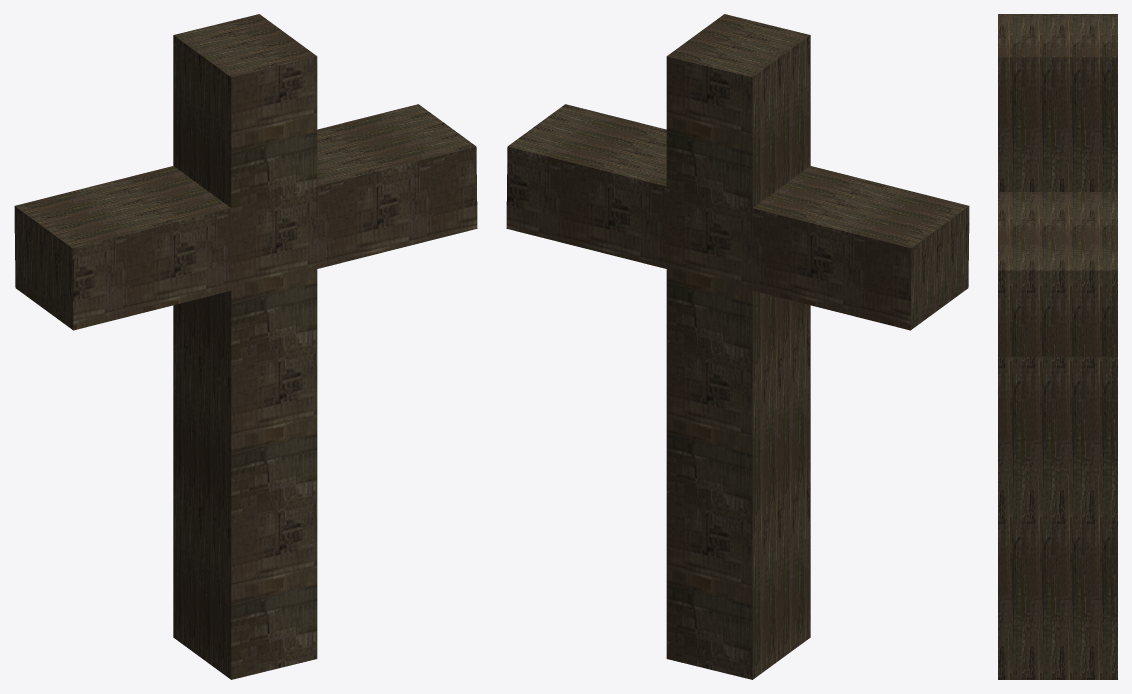
The model's file is cross.gltf.
The picture shows the model from 3 angles, left to right: view 1: azimuth 30°, elevation 25°; view 2: azimuth 150°, elevation 25°; view 3: azimuth 270°, elevation 25°; orthographic projection. The views are drawn at different scales.
Visible parts, largest first — view 1: cross_atomic0; view 2: cross_atomic0; view 3: cross_atomic0.
Boxes of the visible parts, box(x1,y1,x2,y2) form: cross_atomic0: box(14, 14, 477, 679); cross_atomic0: box(506, 14, 969, 679); cross_atomic0: box(998, 14, 1117, 679).
Bounding box in the file's own units: 7.32 × 10.4 × 1.81.
1 material, 1 textured.
